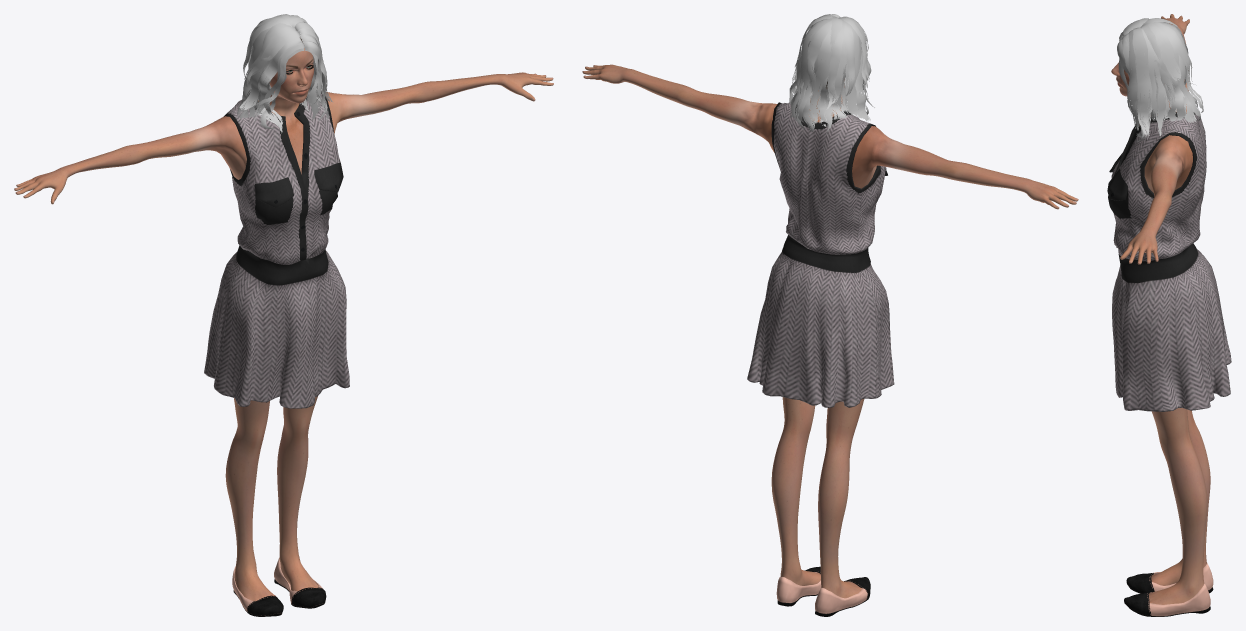
3 renders of one model, left to right at view 1: azimuth 30°, elevation 25°; view 2: azimuth 150°, elevation 25°; view 3: azimuth 270°, elevation 25°, orthographic. The views are drawn at different scales.
Parts seen in each view (by area): view 1: Tops, Body, Hair, Shoes; view 2: Tops, Body, Hair, Shoes; view 3: Tops, Body, Hair, Shoes.
Part boxes in pixels (x1,y1,x2,y2): Tops: (204,91,349,408); Body: (14,37,553,601); Hair: (237,14,333,133); Shoes: (232,557,326,616); Tops: (747,102,894,407); Body: (582,64,1078,598); Hair: (789,14,874,133); Shoes: (776,566,870,616); Tops: (1107,112,1231,411); Body: (1111,14,1210,604); Hair: (1117,18,1203,141); Shoes: (1124,563,1213,616).
Bounding box in the file's own units: 156 × 169 × 32.74.
